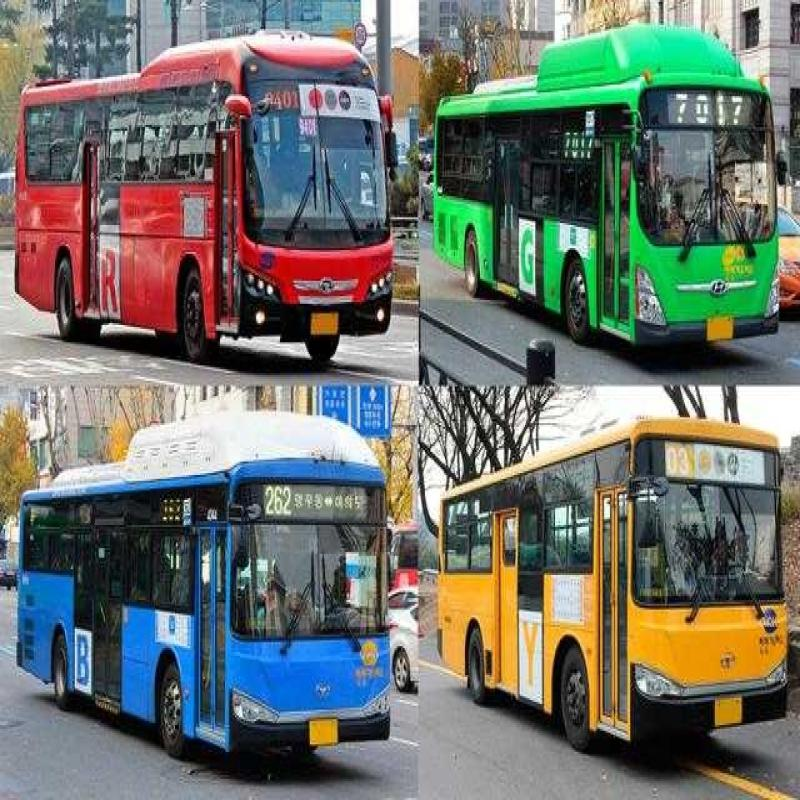bus: (448, 413, 799, 771), (44, 402, 394, 756), (29, 32, 393, 363), (429, 32, 794, 361)
